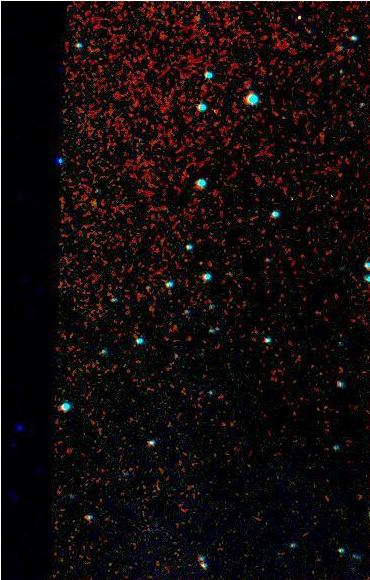star: (284, 2, 314, 32)
